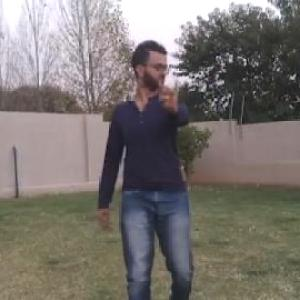takeoff-hand: (156, 71, 186, 112)
